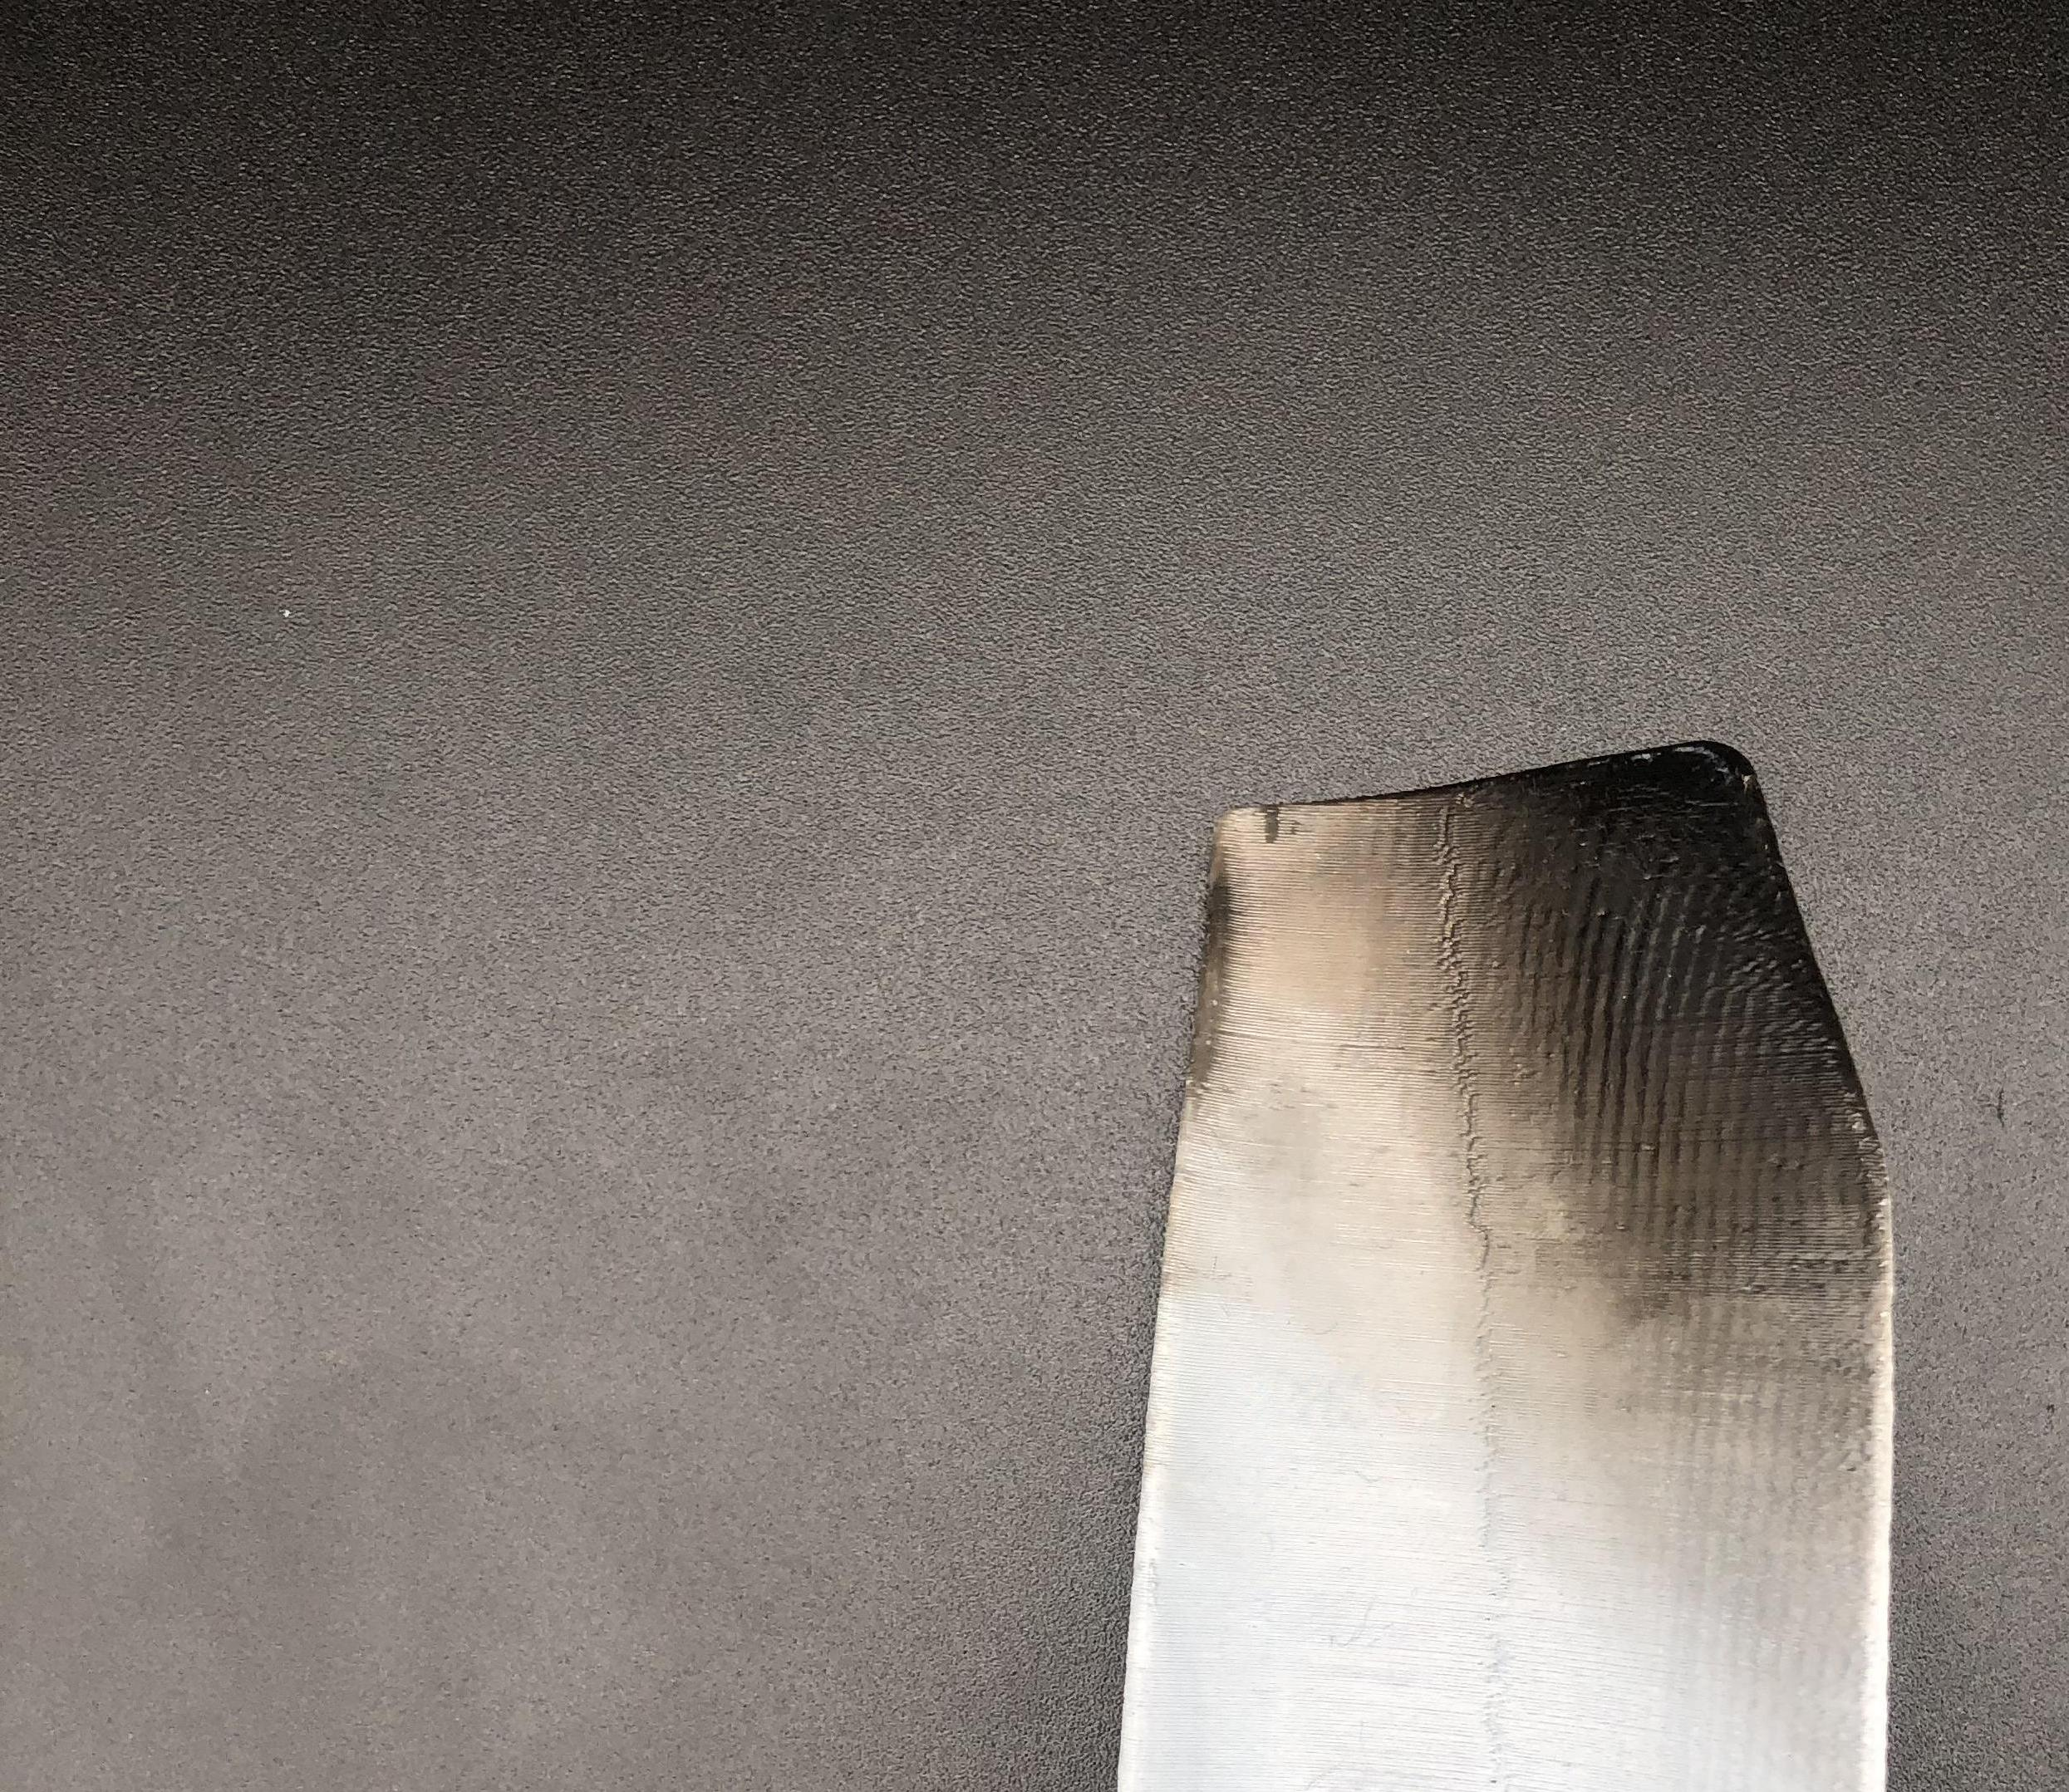ablation: (1327, 818, 1849, 1266)
